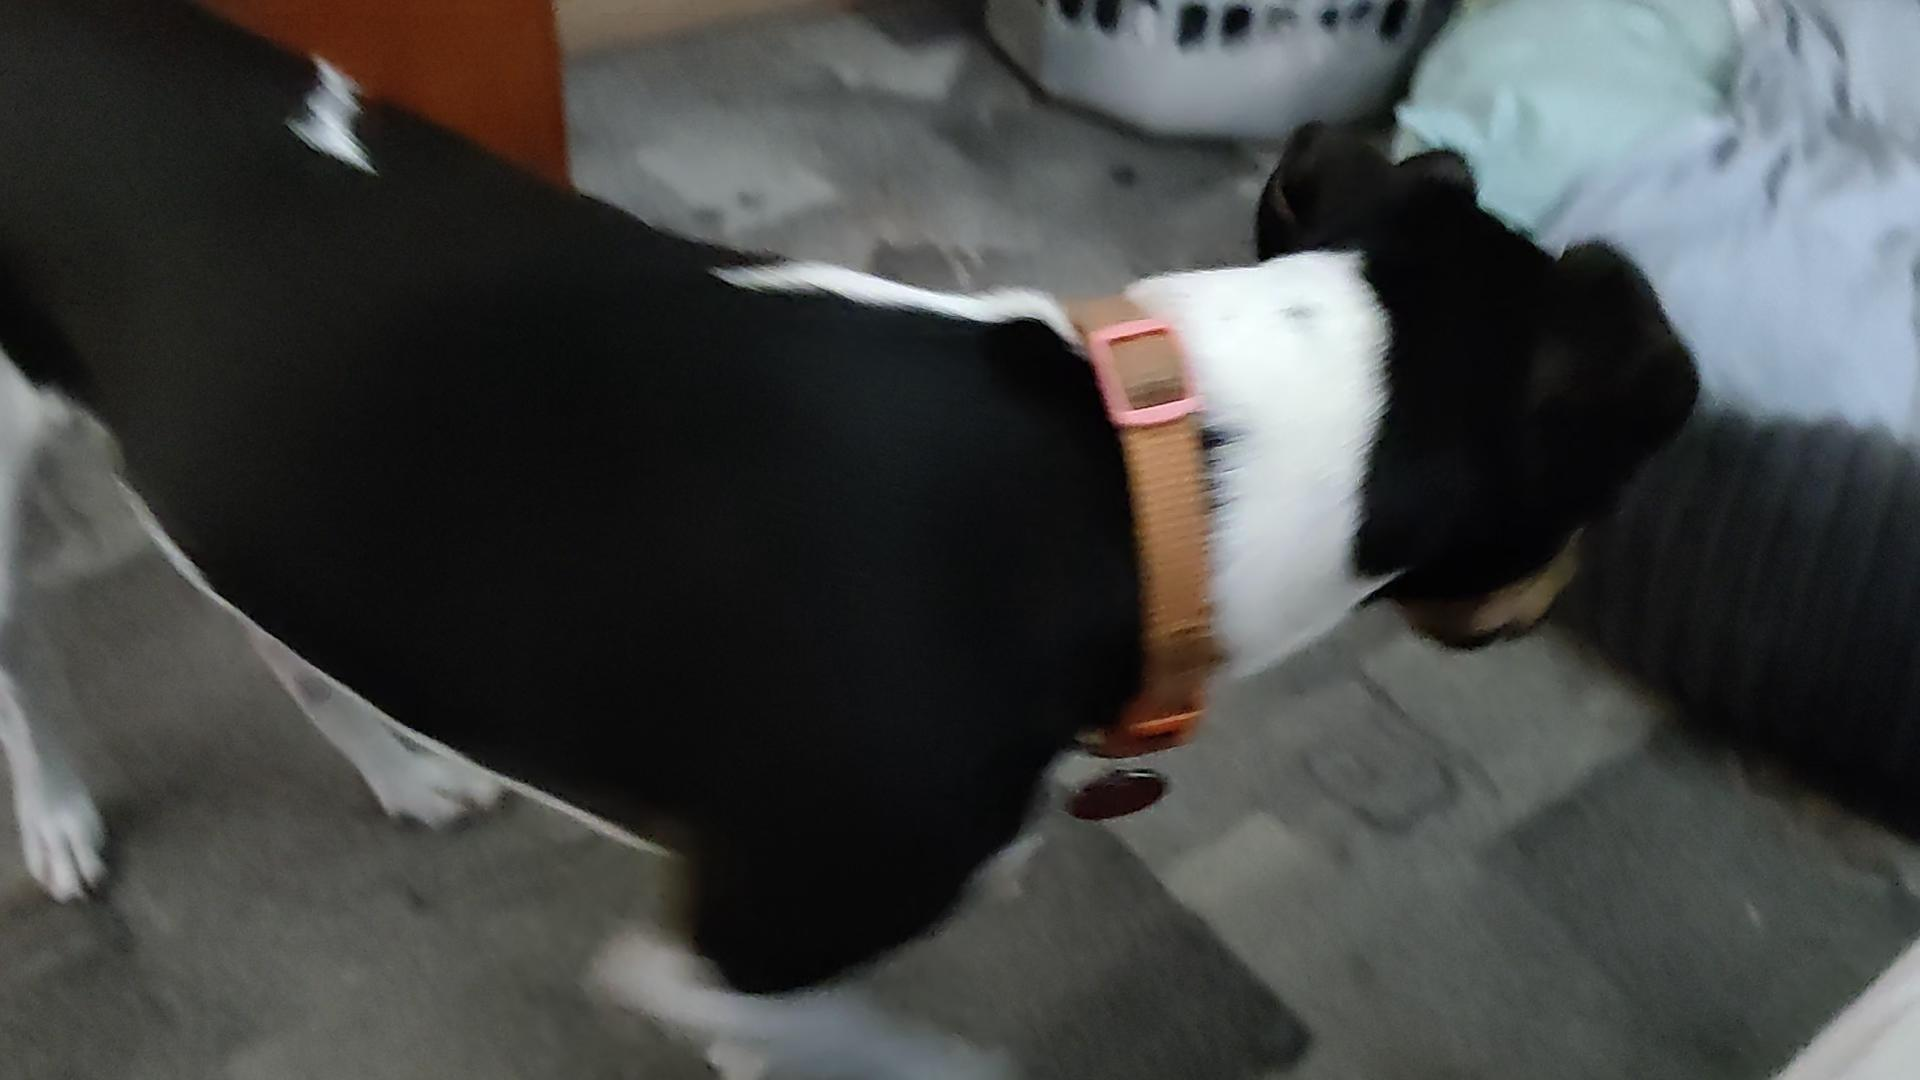Dog: (0, 0, 1702, 1079)
